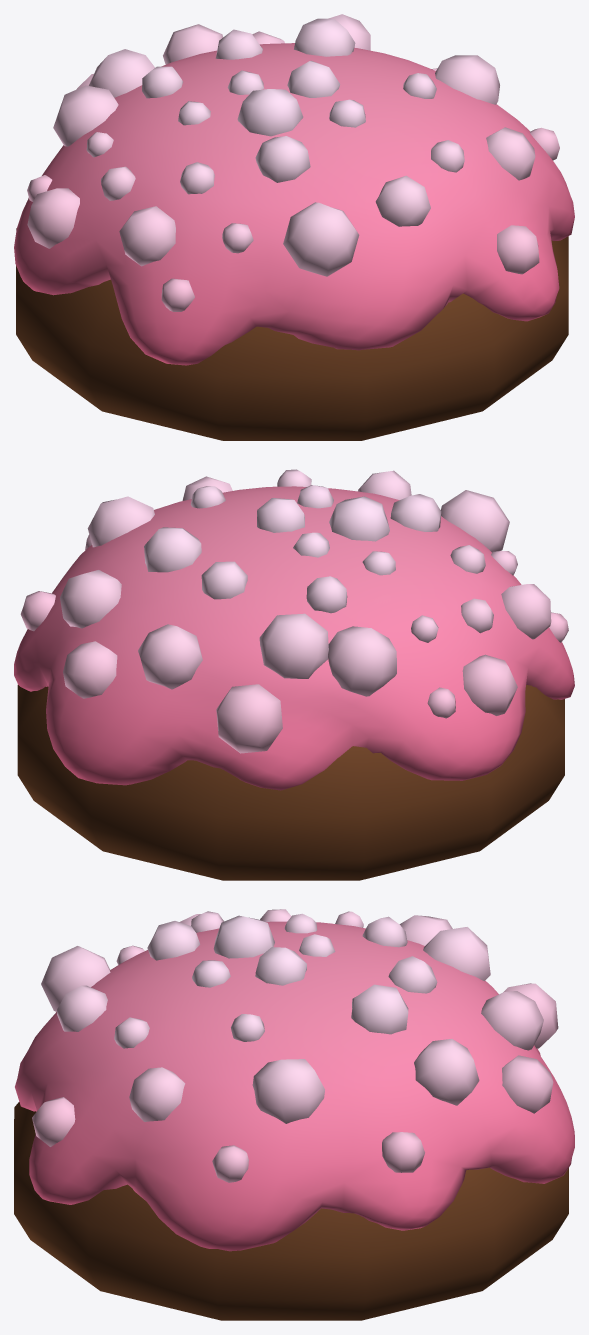
The model's file is candy_choco_21.fbx.
3 views of the same model, one above another, from view 1: azimuth 30°, elevation 25°; view 2: azimuth 150°, elevation 25°; view 3: azimuth 270°, elevation 25° (orthographic).
Visible parts, largest first — view 1: c_c_21; view 2: c_c_21; view 3: c_c_21.
Part boxes in pixels (x1,y1,x2,y2): c_c_21: (14,14,574,440); c_c_21: (14,469,574,880); c_c_21: (14,909,574,1320).
Bounding box in the file's own units: 146 × 80.38 × 145.
